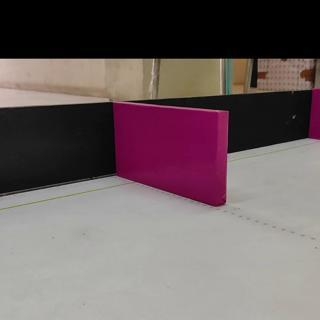xparking: (113, 110, 225, 196)
